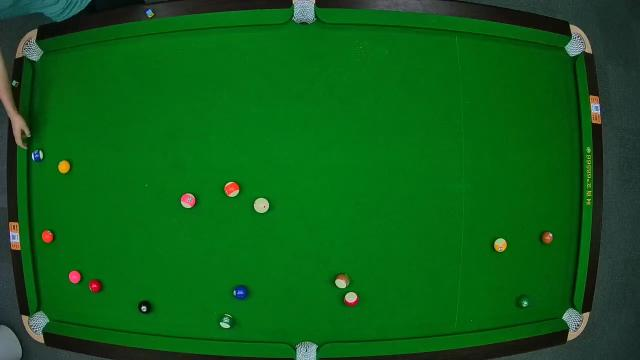bag1: (18, 40, 38, 60)
bag2: (292, 0, 316, 26)
bag3: (568, 32, 588, 56)
bag4: (30, 310, 50, 334)
bag5: (294, 339, 318, 360)
bag6: (564, 309, 582, 331)
ball0: (253, 198, 269, 214)
ball1: (58, 160, 72, 176)
ball10: (31, 150, 44, 162)
ball11: (343, 292, 359, 307)
ball12: (180, 192, 196, 208)
ball13: (224, 180, 240, 197)
ball14: (219, 313, 233, 329)
ball15: (334, 274, 350, 288)
ball2: (233, 284, 249, 300)
ball3: (88, 280, 100, 294)
ball4: (70, 271, 82, 285)
ball5: (42, 229, 54, 244)
ball6: (516, 294, 530, 308)
ball7: (540, 230, 554, 244)
ball8: (138, 299, 152, 313)
ball9: (494, 238, 508, 253)
